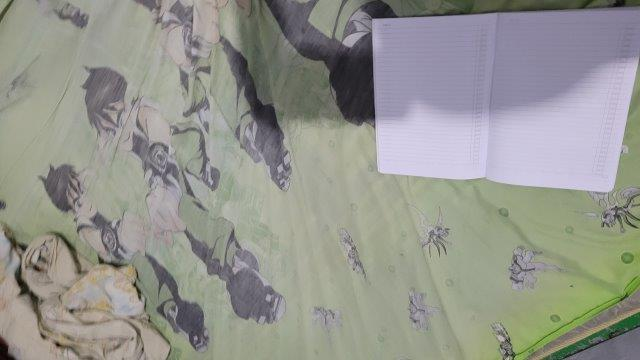kertas: (371, 7, 640, 194)
